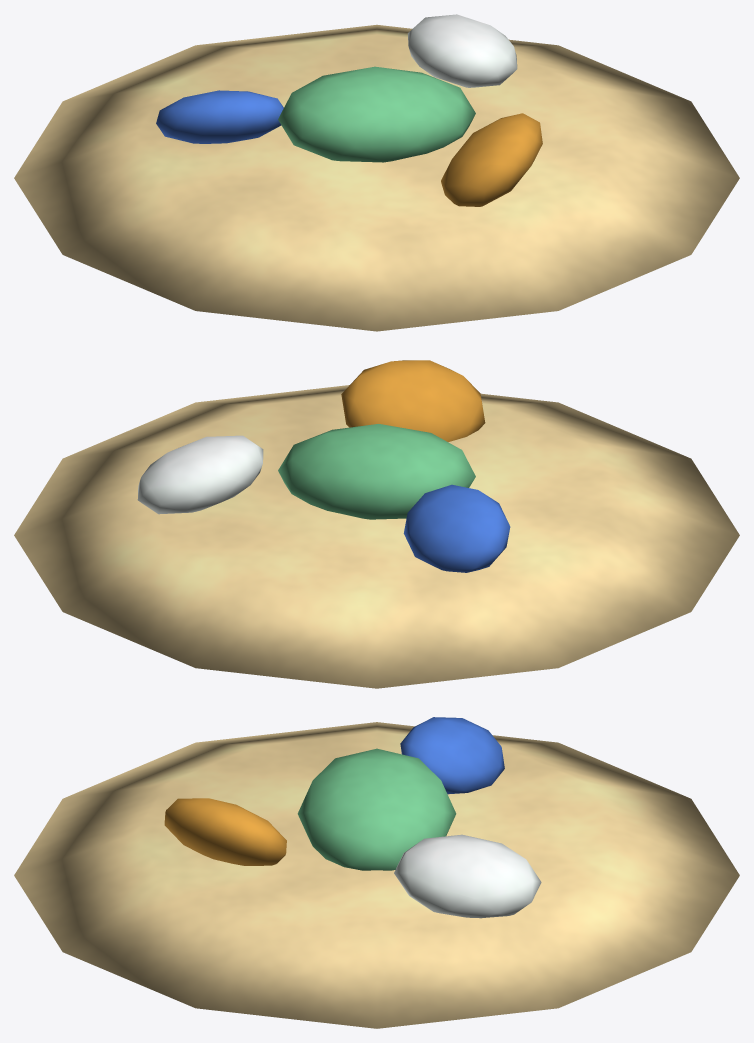
File: drift_glass.glb
3 renders of one model, top to bottom at view 1: azimuth 30°, elevation 25°; view 2: azimuth 150°, elevation 25°; view 3: azimuth 270°, elevation 25°, orthographic.
Visible parts, largest first — view 1: DriftGlass; view 2: DriftGlass; view 3: DriftGlass.
Part boxes in pixels (<box>): DriftGlass: <box>14,14,739,331</box>; DriftGlass: <box>14,360,739,688</box>; DriftGlass: <box>14,717,739,1028</box>.
Size of the model in its own units: 0.48 by 0.0729 by 0.48.
1 material, 1 textured.
